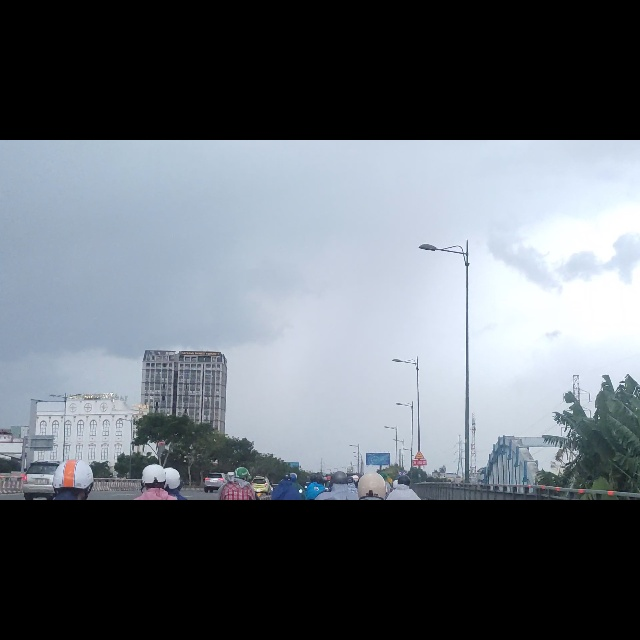bien_cam: (414, 550, 425, 568)
